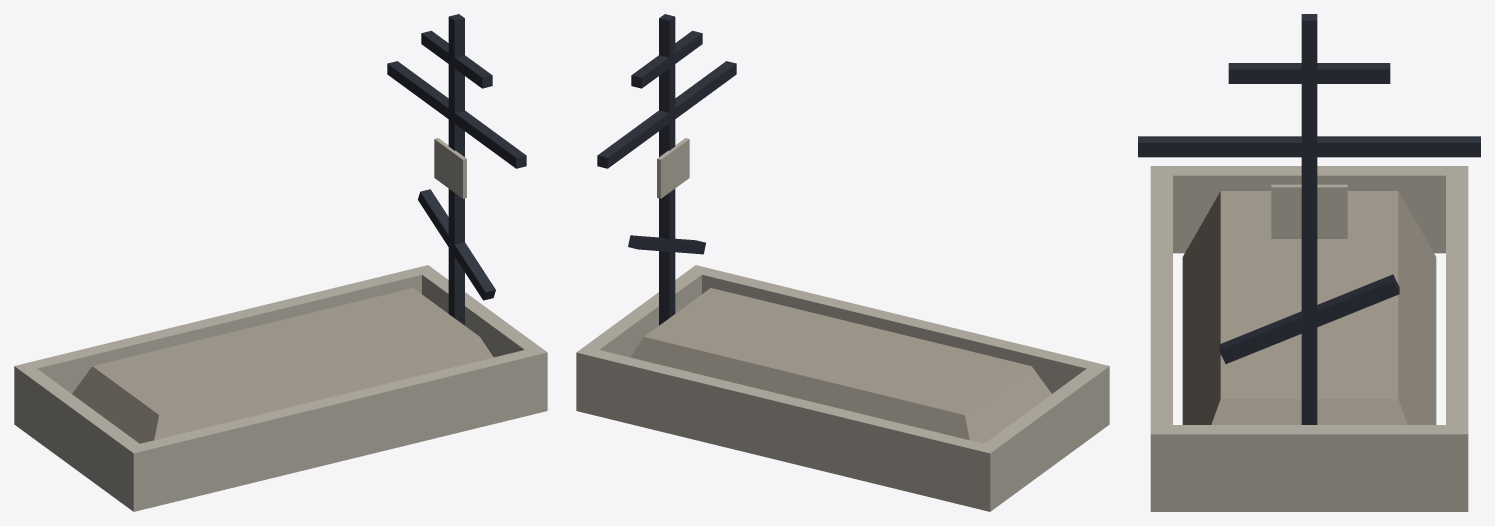
The model's file is SM_Cem_CrossMetal.glb.
The picture shows the model from 3 angles, left to right: view 1: azimuth 30°, elevation 25°; view 2: azimuth 150°, elevation 25°; view 3: azimuth 270°, elevation 25°; orthographic projection. The views are drawn at different scales.
Visible parts, largest first — view 1: SM_Cem_CrossMetal; view 2: SM_Cem_CrossMetal; view 3: SM_Cem_CrossMetal.
Boxes of the visible parts, x1,y1,x2,y2 form: SM_Cem_CrossMetal: [14, 14, 547, 511]; SM_Cem_CrossMetal: [576, 14, 1109, 511]; SM_Cem_CrossMetal: [1138, 14, 1480, 511].
Bounding box in the file's own units: 2 × 1.65 × 1.08.
